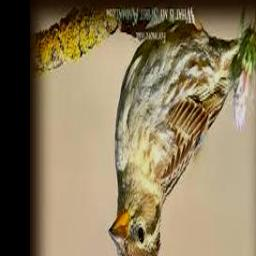Sparrow: (109, 16, 250, 256)
